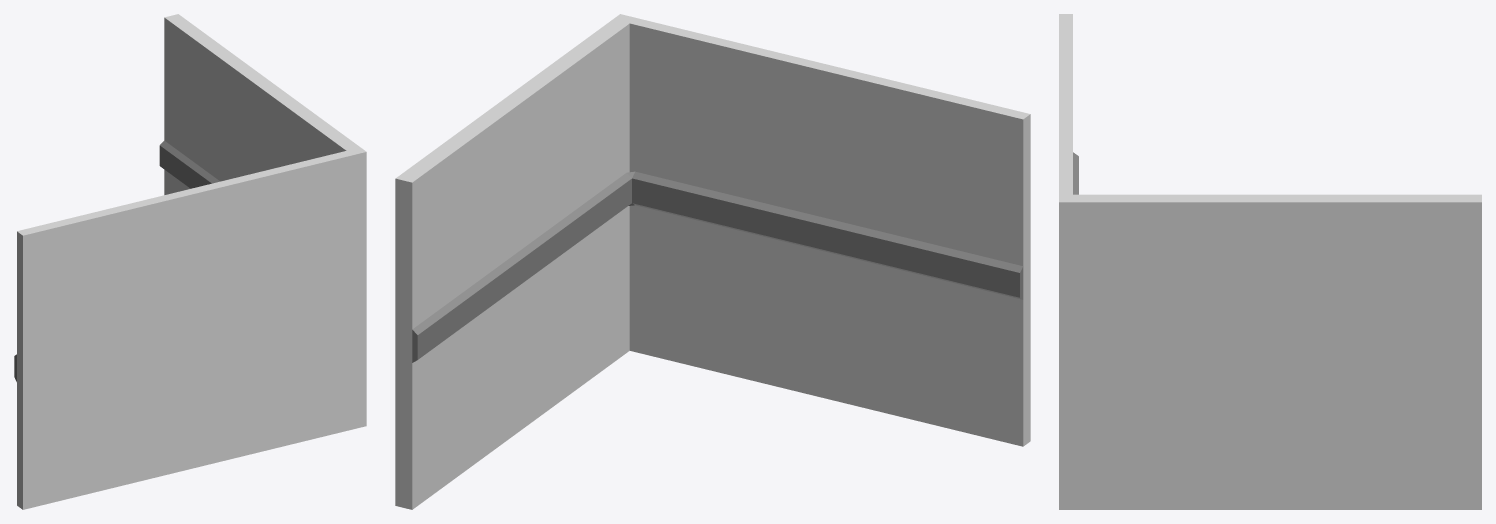
File: Counter_3_C.obj
The picture shows the model from 3 angles, left to right: view 1: azimuth 30°, elevation 25°; view 2: azimuth 150°, elevation 25°; view 3: azimuth 270°, elevation 25°; orthographic projection. The views are drawn at different scales.
Parts seen in each view (by area): view 1: Counter_3_C; view 2: Counter_3_C; view 3: Counter_3_C.
Boxes of the visible parts, x1,y1,x2,y2 form: Counter_3_C: [14, 14, 366, 509]; Counter_3_C: [395, 14, 1030, 509]; Counter_3_C: [1059, 14, 1481, 509].
Size of the model in its own units: 1 by 0.7623 by 0.949.
